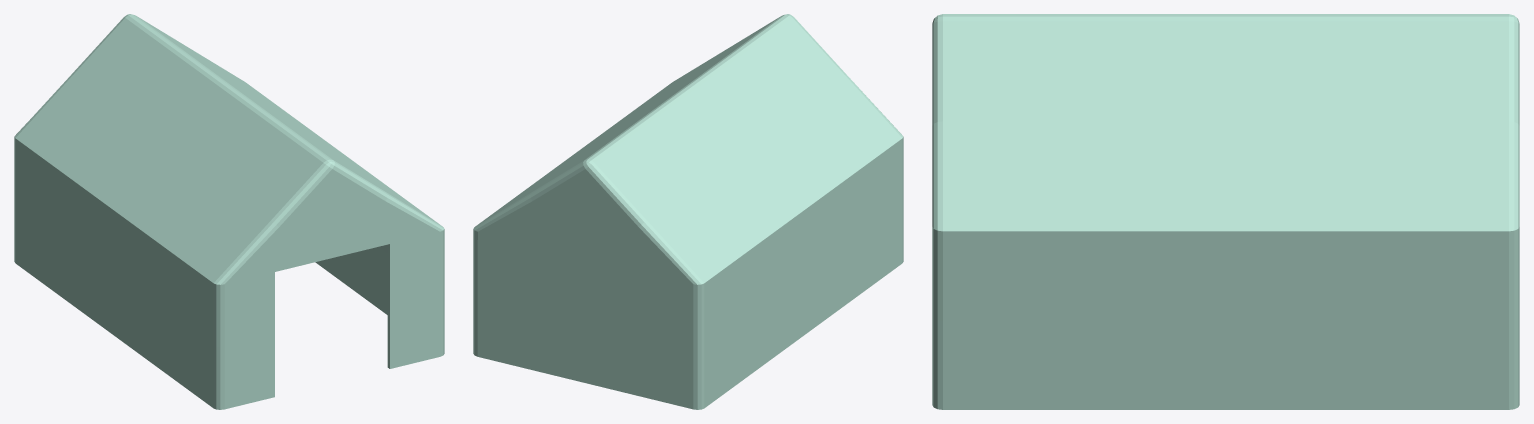
File: Greenhouse22.fbx
The picture shows the model from 3 angles, left to right: view 1: azimuth 30°, elevation 25°; view 2: azimuth 150°, elevation 25°; view 3: azimuth 270°, elevation 25°; orthographic projection. The views are drawn at different scales.
Parts seen in each view (by area): view 1: Greenhouse.001; view 2: Greenhouse.001; view 3: Greenhouse.001.
Part boxes in pixels (<box>): Greenhouse.001: <box>14,14,444,409</box>; Greenhouse.001: <box>473,14,903,409</box>; Greenhouse.001: <box>932,14,1519,409</box>.
Size of the model in its own units: 454 by 416 by 704.
